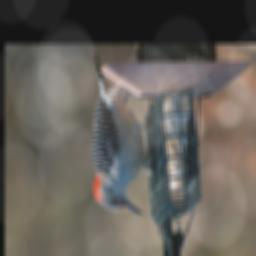Woodpecker: (91, 52, 156, 219)
